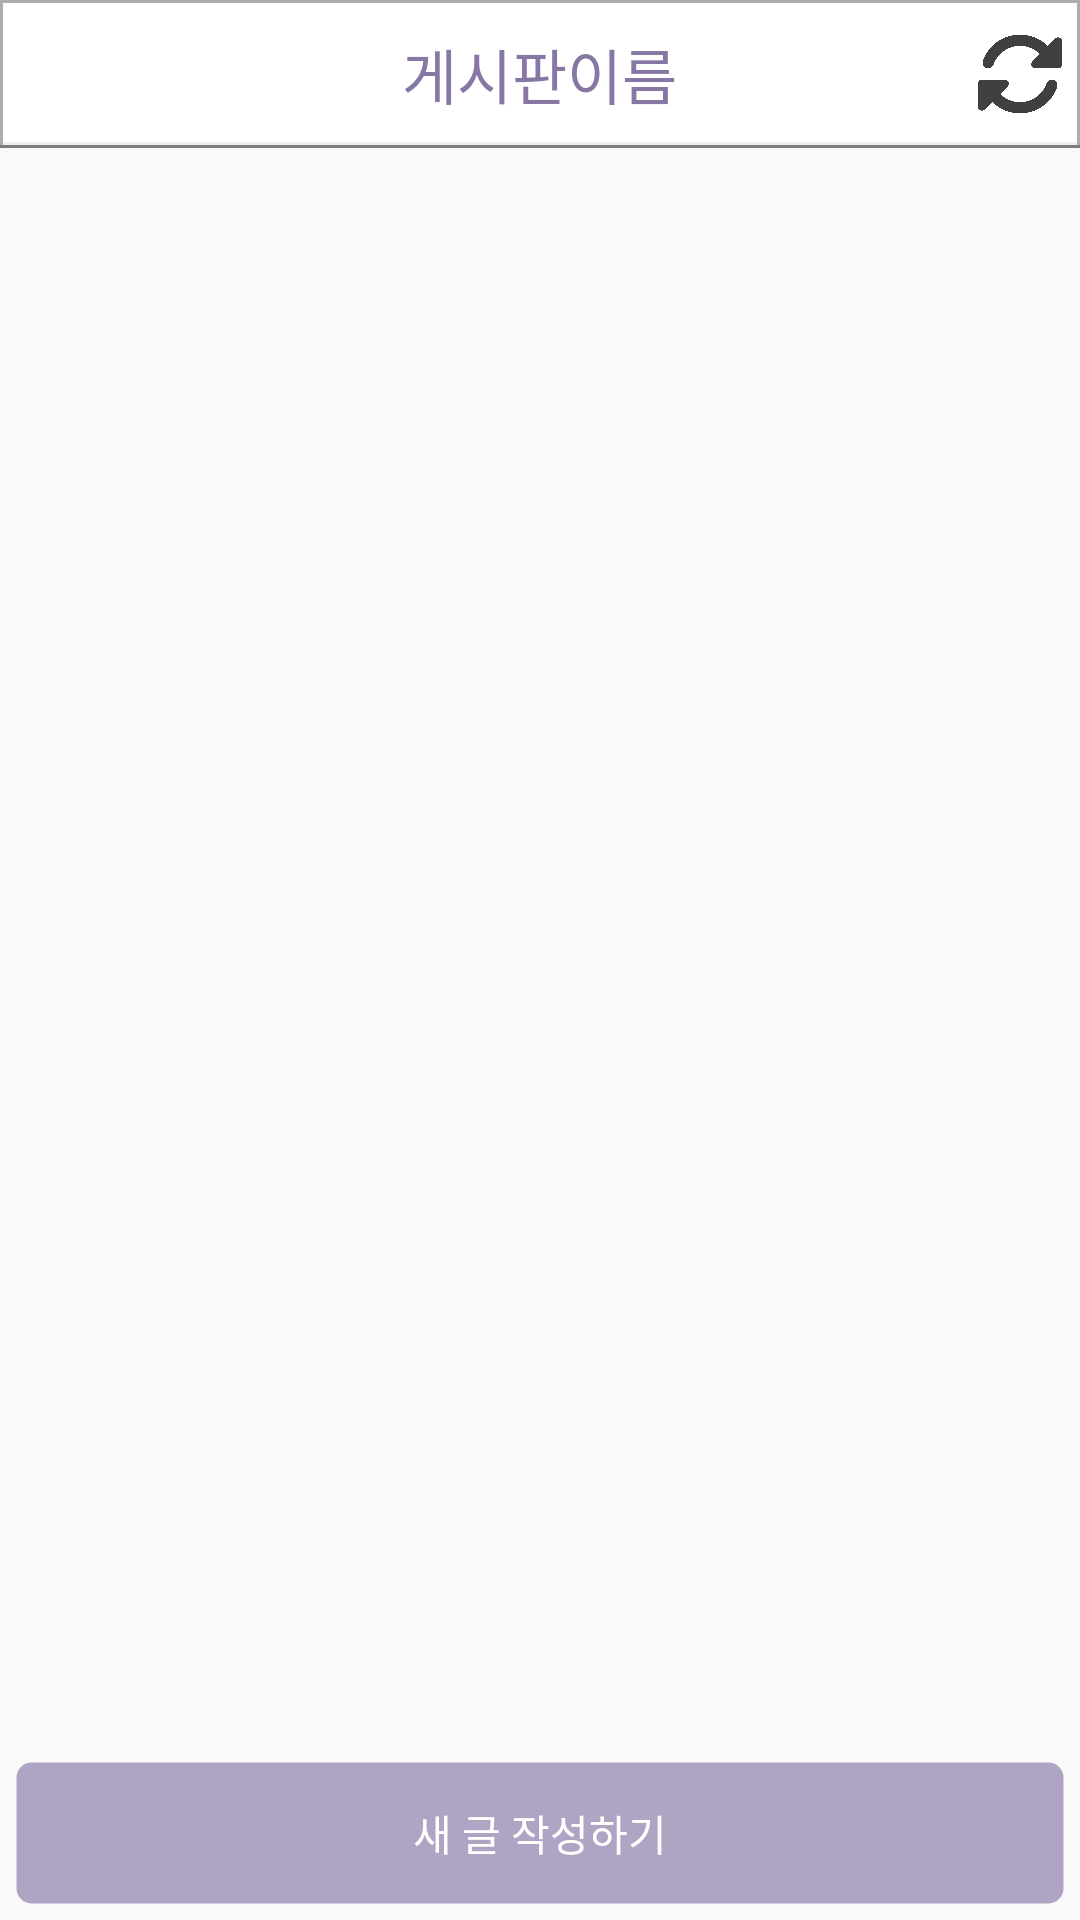

Icons on this 1080×1920 Android screen, each with the point to tap as (x,y):
rotate: (1020,74)
